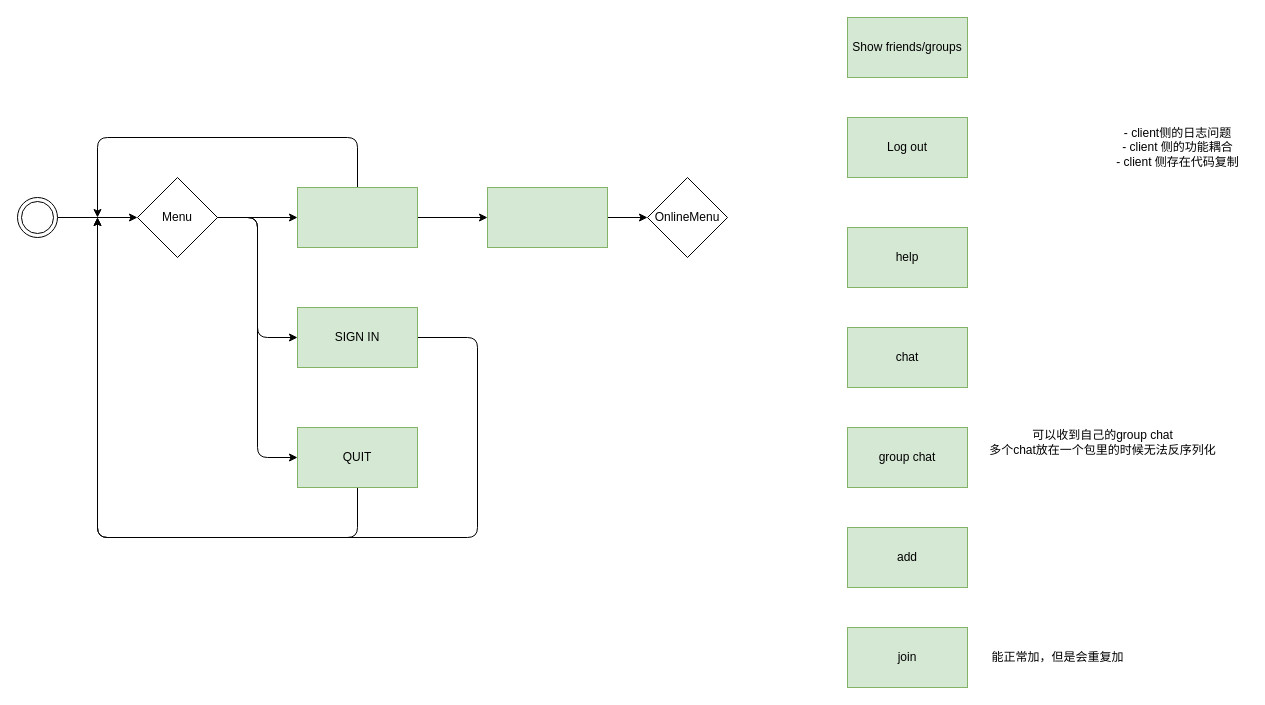
The diagram is 1265 pixels wide and 705 high, and some of its shapes have lost their labels. The centre of each missing label's shape, as x and y in pixels:
LOGIN: the point at 357,217
offline messages & friends/groups lists: the point at 547,217
